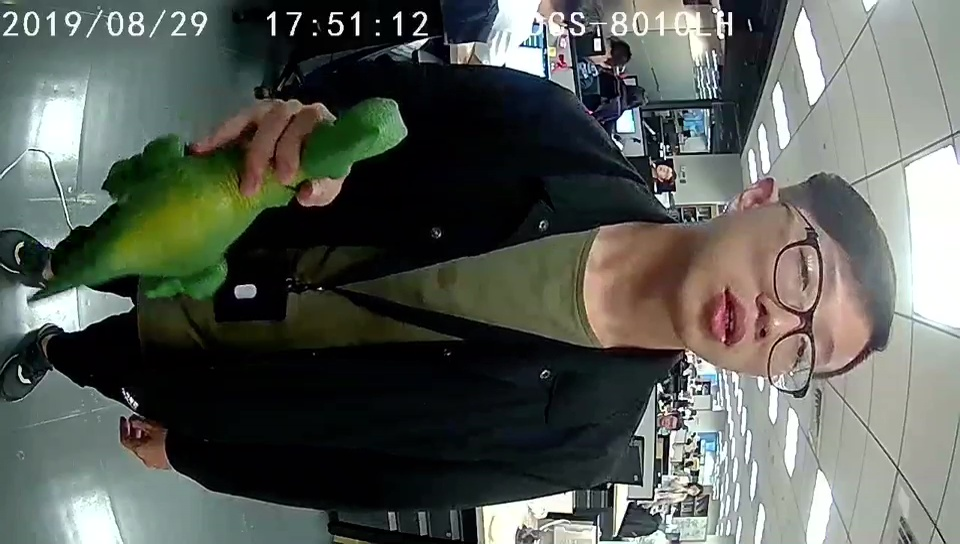rex: (96, 96, 408, 300)
